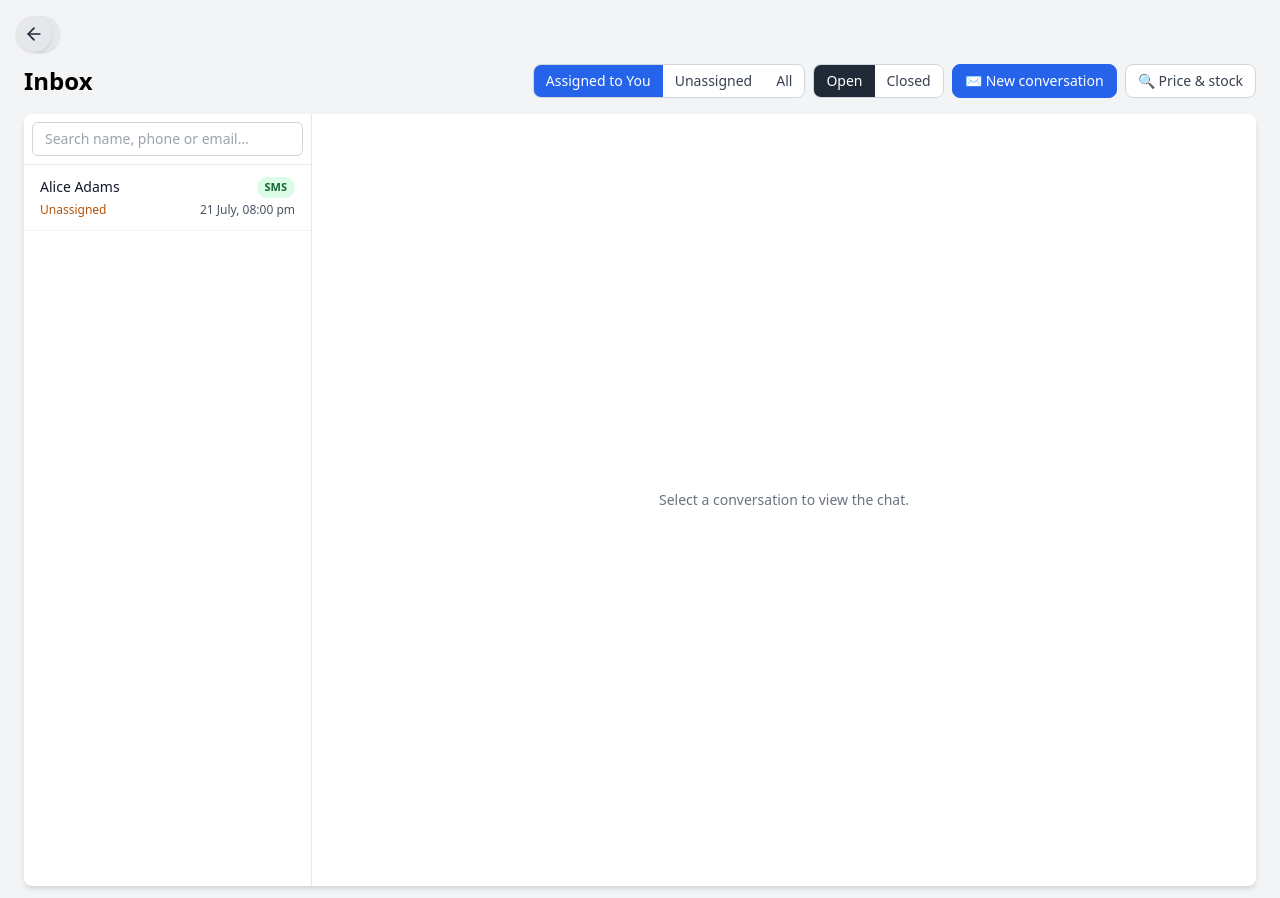
Scenario: F31 — a filter switch must not throw away work › with an EMPTY composer the switch still clears the thread (unchanged behaviour)
expect the text "Alice Adams" is shown: met, box top-left (40, 177), bottom-right (120, 197)
Click the button "Alice Adams" at (80, 187), box top-left (24, 165), bottom-right (311, 230)
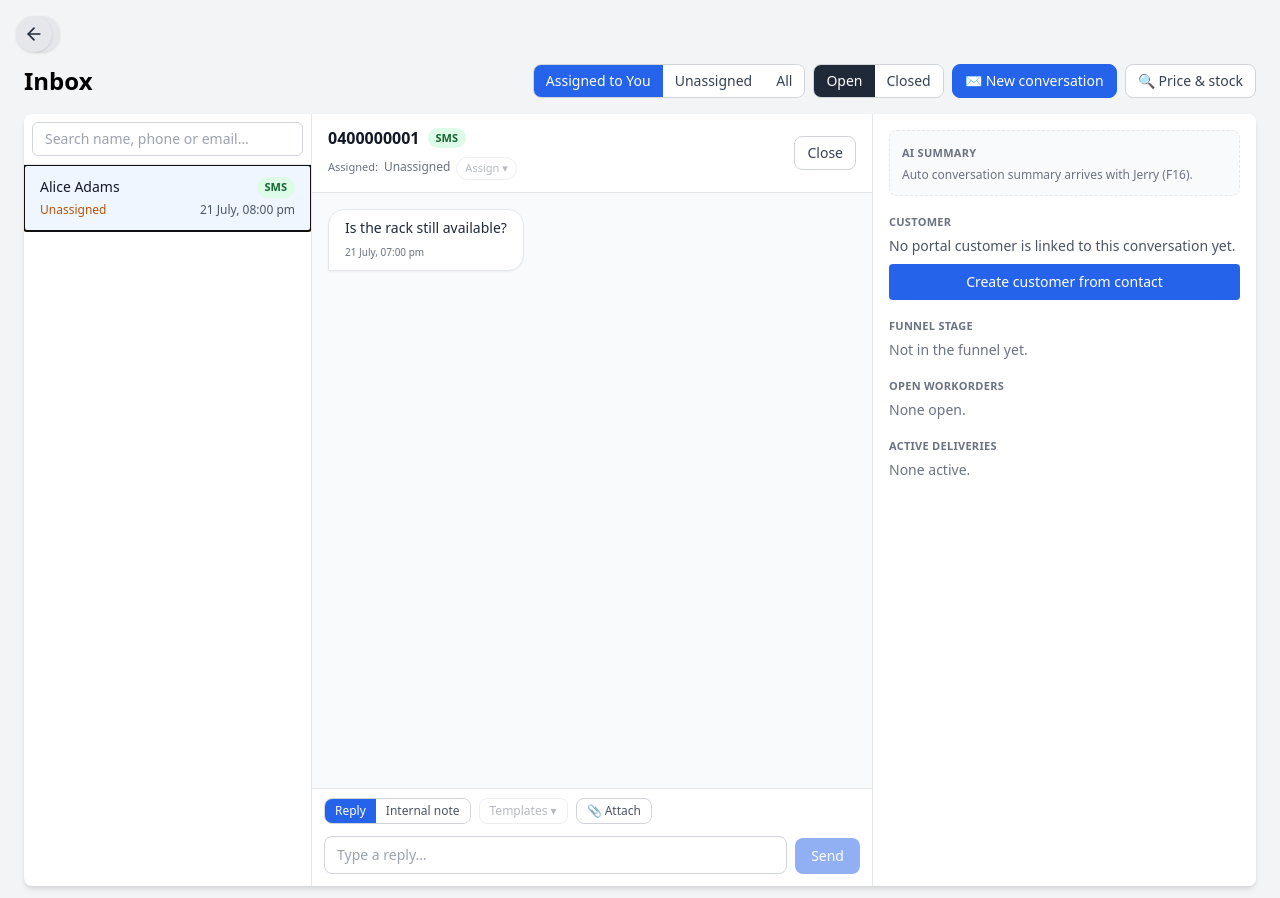
expect the text box with placeholder "Type a reply…" is shown: met, box top-left (324, 836), bottom-right (787, 874)
expect the text "Is the rack still available?" is shown: met, box top-left (345, 218), bottom-right (507, 238)
Click the button "All" at (784, 81), box top-left (764, 65), bottom-right (804, 97)
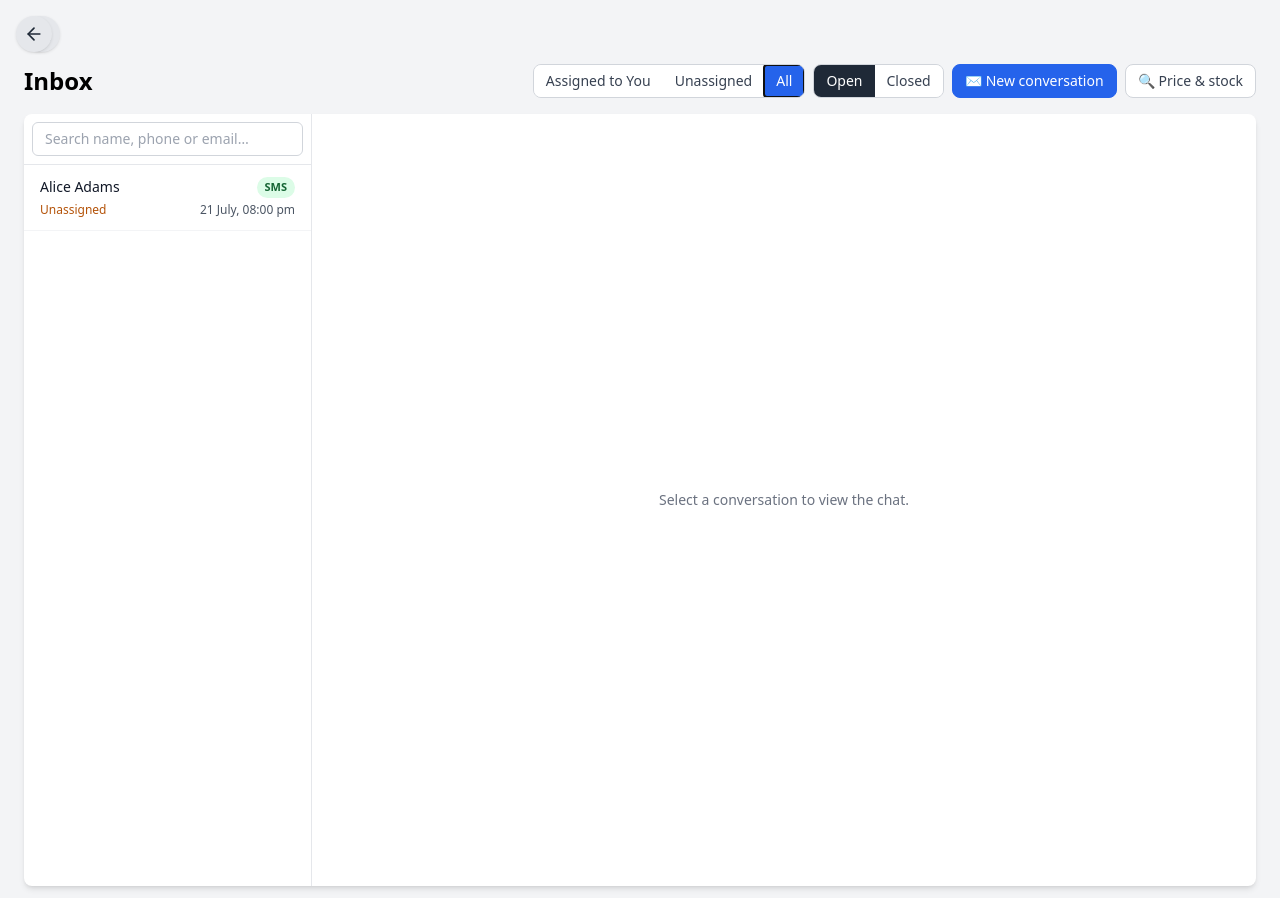
expect the text "Is the rack still available?" is gone: met
